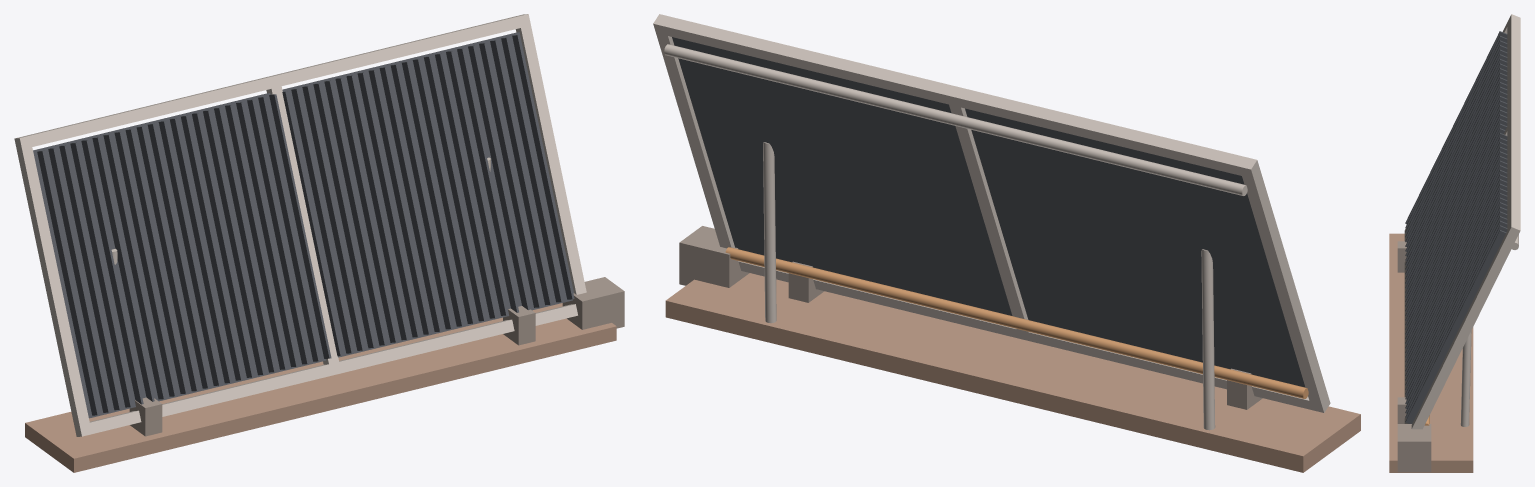
The model's file is P03_radiator_panel.glb.
3 renders of one model, left to right at view 1: azimuth 30°, elevation 25°; view 2: azimuth 150°, elevation 25°; view 3: azimuth 270°, elevation 25°, orthographic. The views are drawn at different scales.
Visible parts, largest first — view 1: fin (×44), back_sheet, frame (×5), mount_rail, coolant_coupling, hinge (×2); view 2: back_sheet, mount_rail, frame (×5), coolant_line (×2), prop_strut (×2), coolant_coupling, hinge (×2); view 3: fin (×44), mount_rail, frame (×3), coolant_coupling, prop_strut, hinge (×2).
Boxes of the visible parts, x1=… form: fin (×44): x1=37, y1=35, x2=574, y2=415; back_sheet: x1=33, y1=32, x2=573, y2=418; frame (×5): x1=14, y1=14, x2=586, y2=436; mount_rail: x1=25, y1=303, x2=616, y2=472; coolant_coupling: x1=562, y1=277, x2=624, y2=329; hinge (×2): x1=129, y1=306, x2=535, y2=436; back_sheet: x1=672, y1=37, x2=1305, y2=387; mount_rail: x1=665, y1=273, x2=1360, y2=472; frame (×5): x1=653, y1=14, x2=1330, y2=412; coolant_line (×2): x1=664, y1=44, x2=1308, y2=398; prop_strut (×2): x1=763, y1=142, x2=1215, y2=430; coolant_coupling: x1=679, y1=226, x2=749, y2=287; hinge (×2): x1=788, y1=261, x2=1262, y2=409; fin (×44): x1=1405, y1=31, x2=1507, y2=423; mount_rail: x1=1389, y1=233, x2=1473, y2=472; frame (×3): x1=1404, y1=14, x2=1520, y2=429; coolant_coupling: x1=1397, y1=424, x2=1431, y2=472; prop_strut: x1=1460, y1=330, x2=1471, y2=426; hinge (×2): x1=1397, y1=241, x2=1406, y2=423.
Bounding box in the file's own units: 3.28 × 1.57 × 0.7813.
